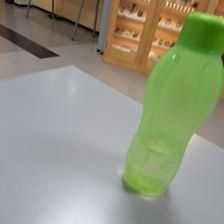bottle: (121, 12, 224, 197)
